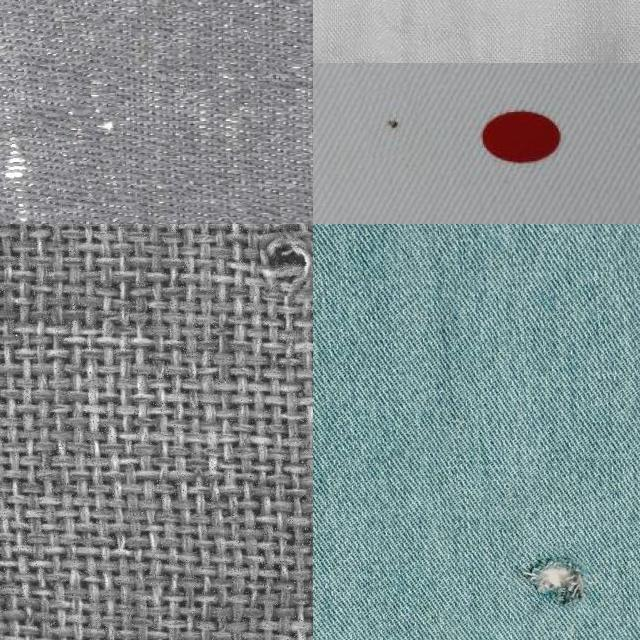Hole: (364, 85, 422, 157)
seam: (508, 544, 590, 614), (261, 236, 313, 296)
